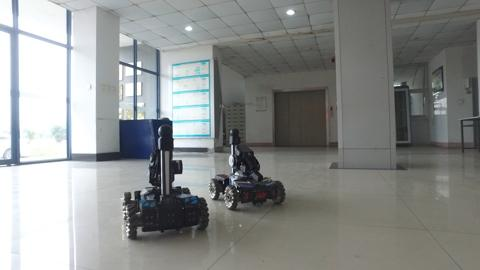chariot: (112, 118, 213, 245), (207, 127, 289, 214)
